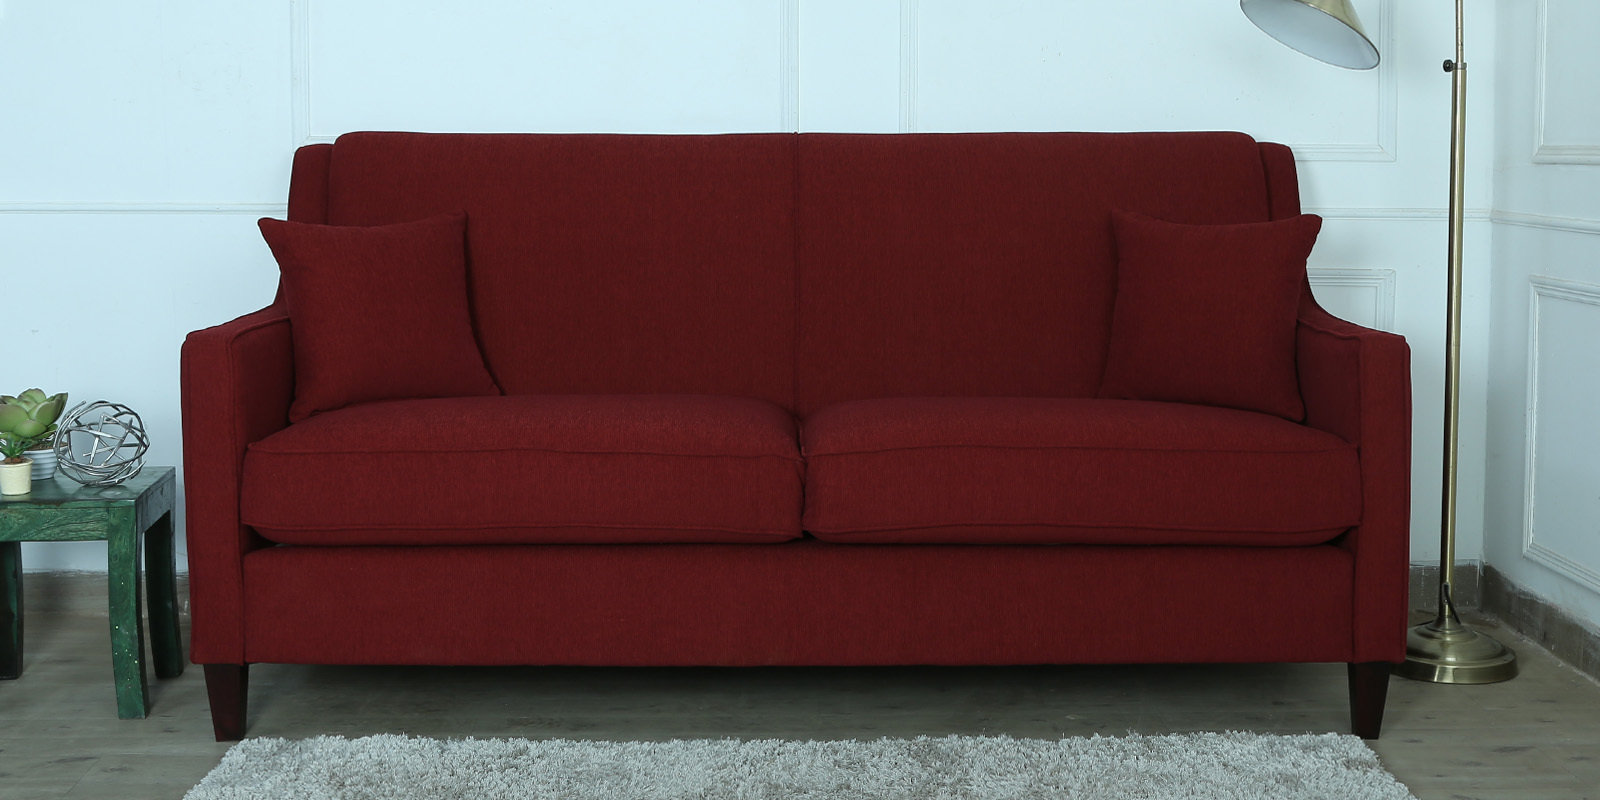Oscar Three Seater Sofa in Garnet Red Colour by CasaCraft: (177, 129, 1416, 741)
